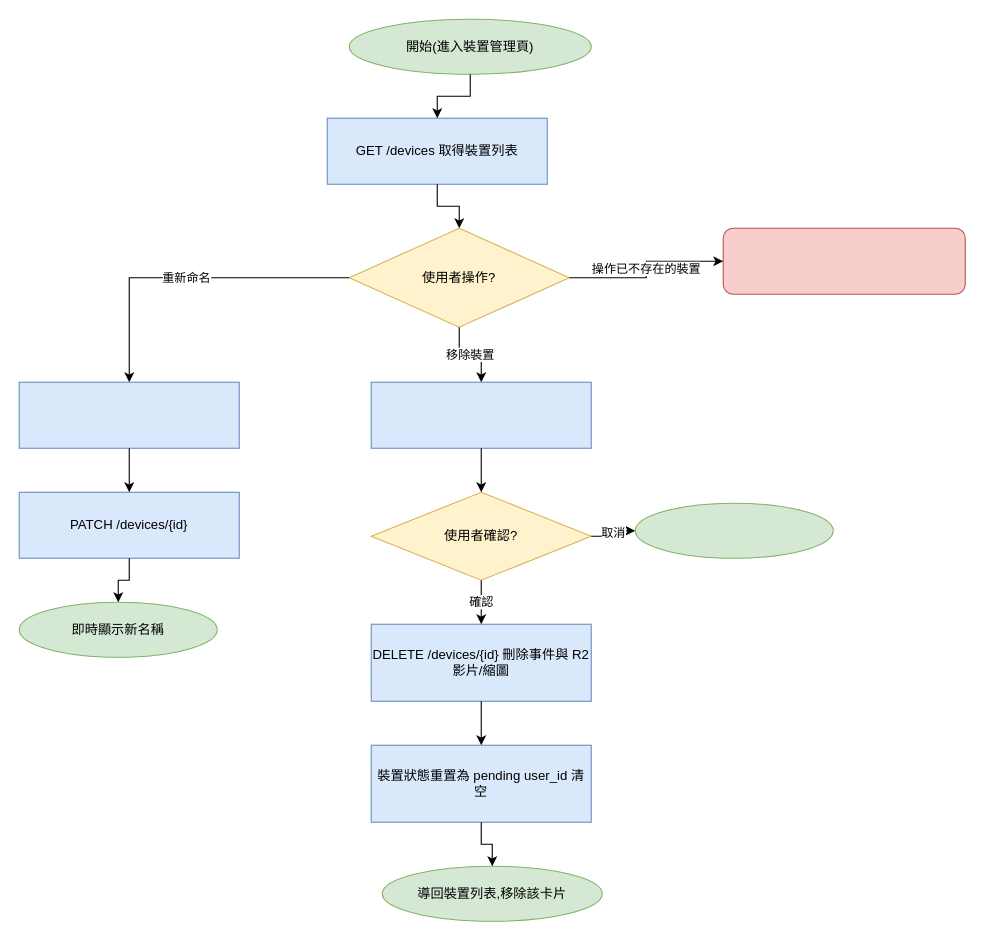
Some shapes in this 985 by 941 pixel diagram are drawn without their labels. The centre of each missing label's shape, as x and y in pixels:
DEVICE_005 裝置不存在或已被移除: the point at 843,260
修改 name 欄位: the point at 128,414
取消,維持原狀: the point at 733,530
顯示二次確認對話框: the point at 480,414
